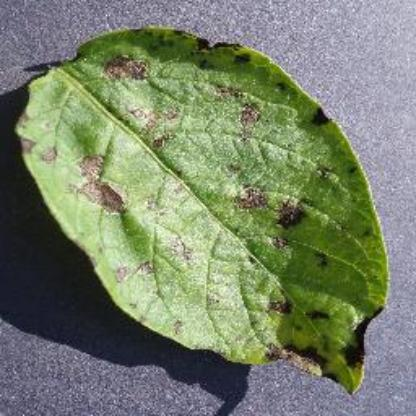Early-Blight: (15, 23, 389, 395)
